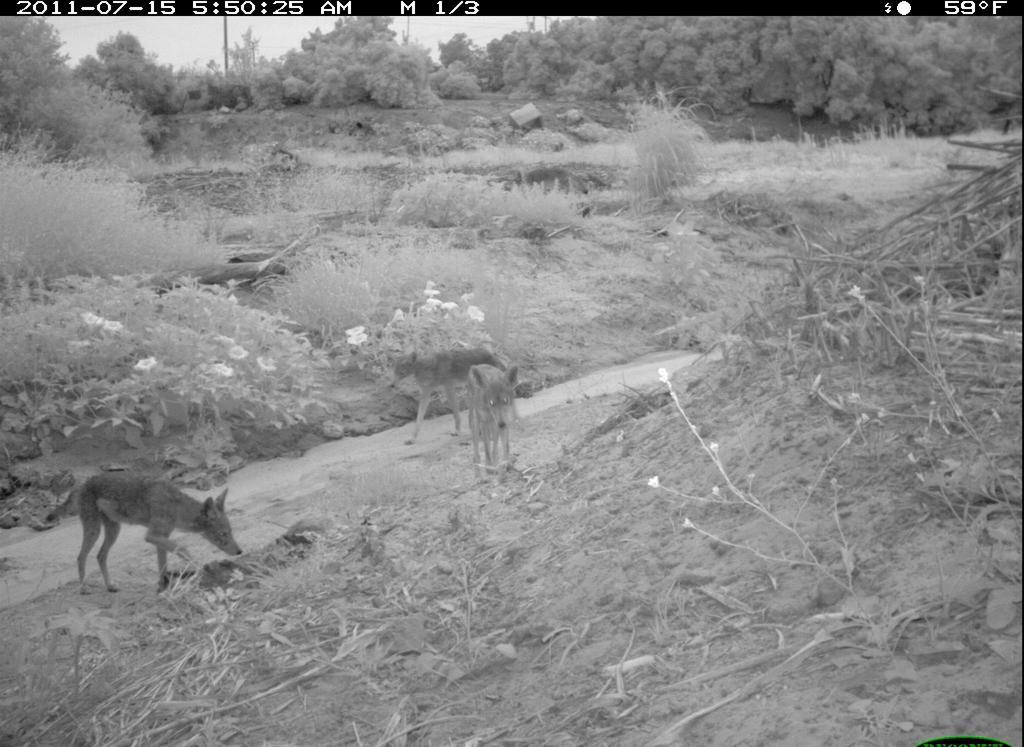coyote: (40, 465, 249, 602), (392, 346, 527, 450), (463, 361, 525, 491)
